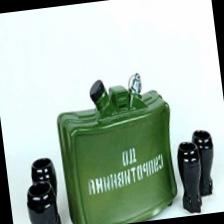MOH-50: (53, 70, 179, 224)
